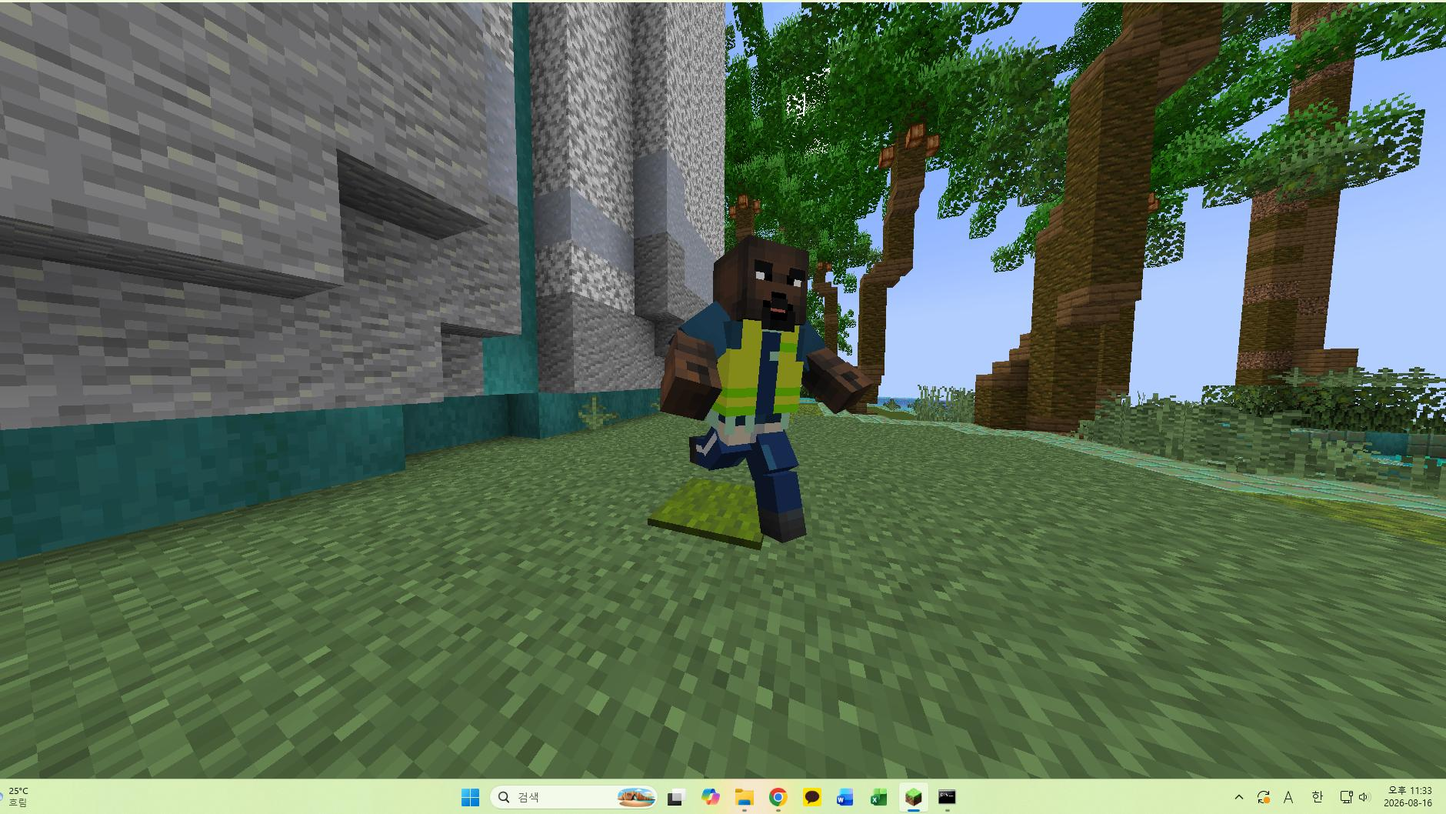Guardian: (659, 235, 871, 542)
